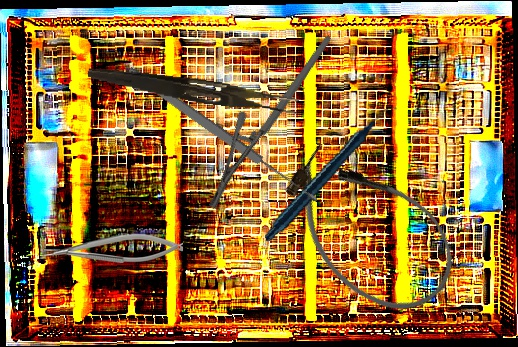Cannula: (261, 124, 476, 336)
Dressing Forceps: (86, 65, 300, 115)
Handpiece: (245, 106, 418, 242)
Needle Holder: (169, 35, 372, 211), (44, 234, 183, 263)
Surgical Spoon: (125, 64, 321, 207)
